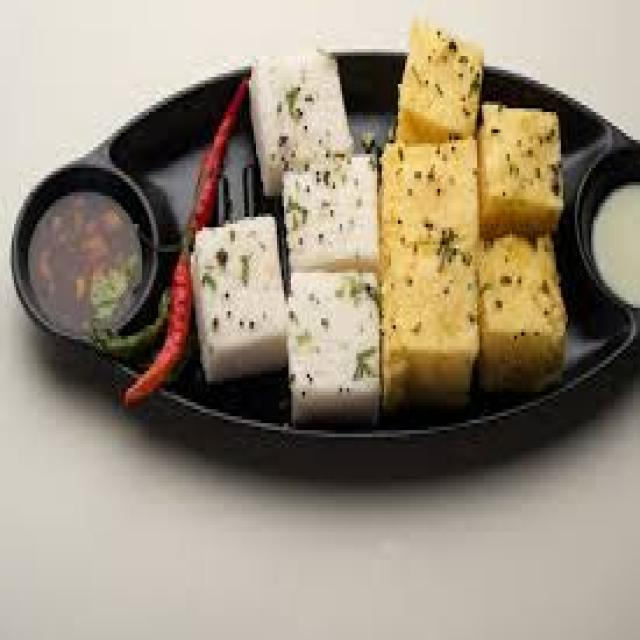DHOKLA: (186, 218, 289, 388), (249, 48, 357, 201), (387, 244, 480, 410), (289, 265, 377, 415), (480, 244, 562, 401), (475, 101, 560, 238), (381, 133, 478, 252), (394, 13, 483, 135), (284, 154, 375, 264)
